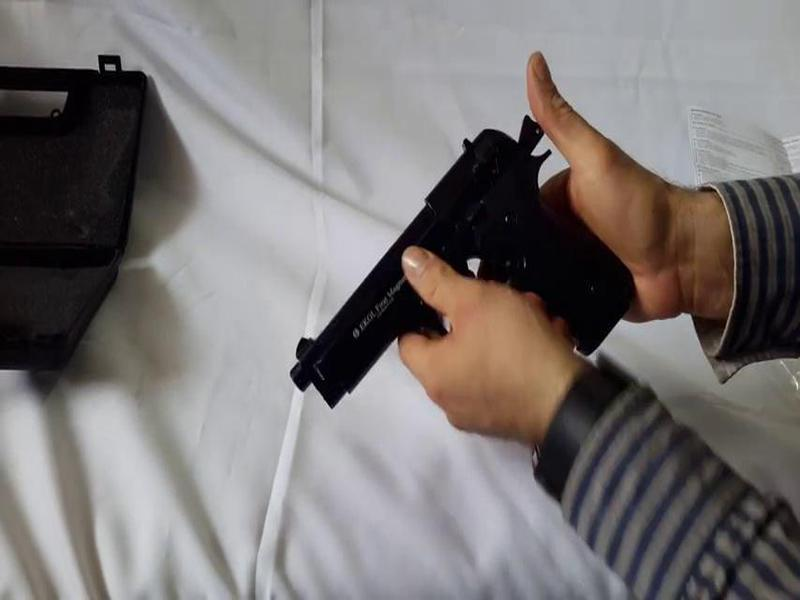Pistola: (258, 118, 642, 424)
